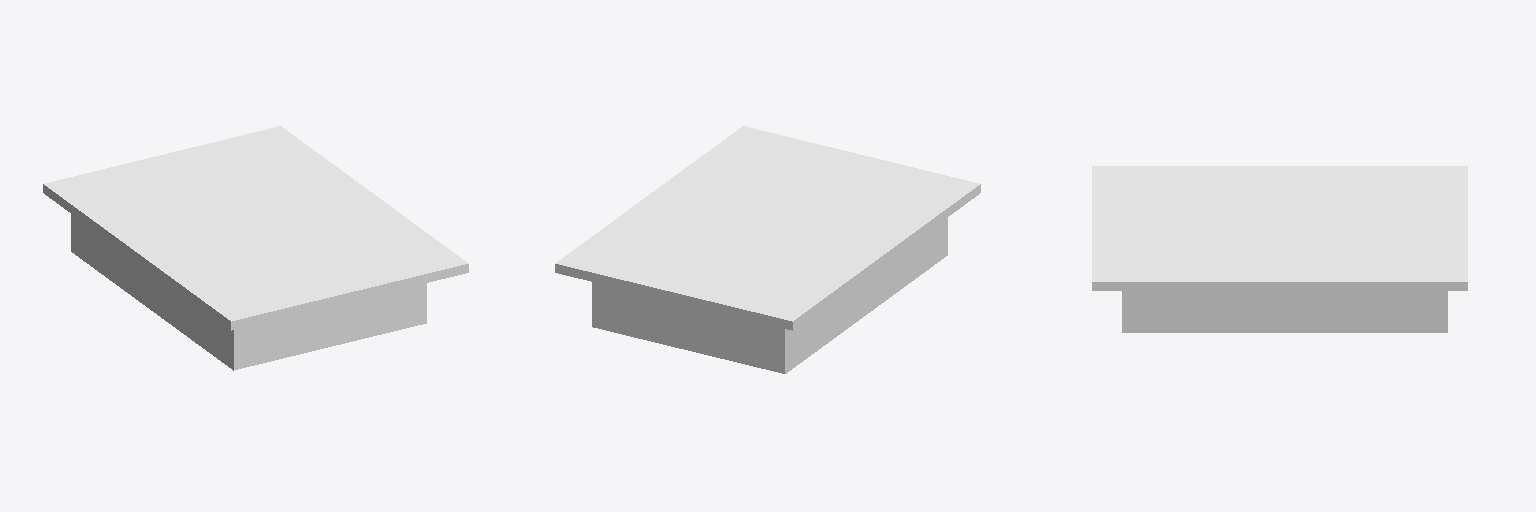
The model's file is LobbyGround.obj.
3 renders of one model, left to right at view 1: azimuth 30°, elevation 25°; view 2: azimuth 150°, elevation 25°; view 3: azimuth 270°, elevation 25°, orthographic.
Visible parts, largest first — view 1: LobbyGround; view 2: LobbyGround; view 3: LobbyGround.
Boxes of the visible parts, <box> form: LobbyGround: <box>43,126,468,370</box>; LobbyGround: <box>555,126,980,373</box>; LobbyGround: <box>1092,166,1467,332</box>.
Bounding box in the file's own units: 27 × 7 × 37.